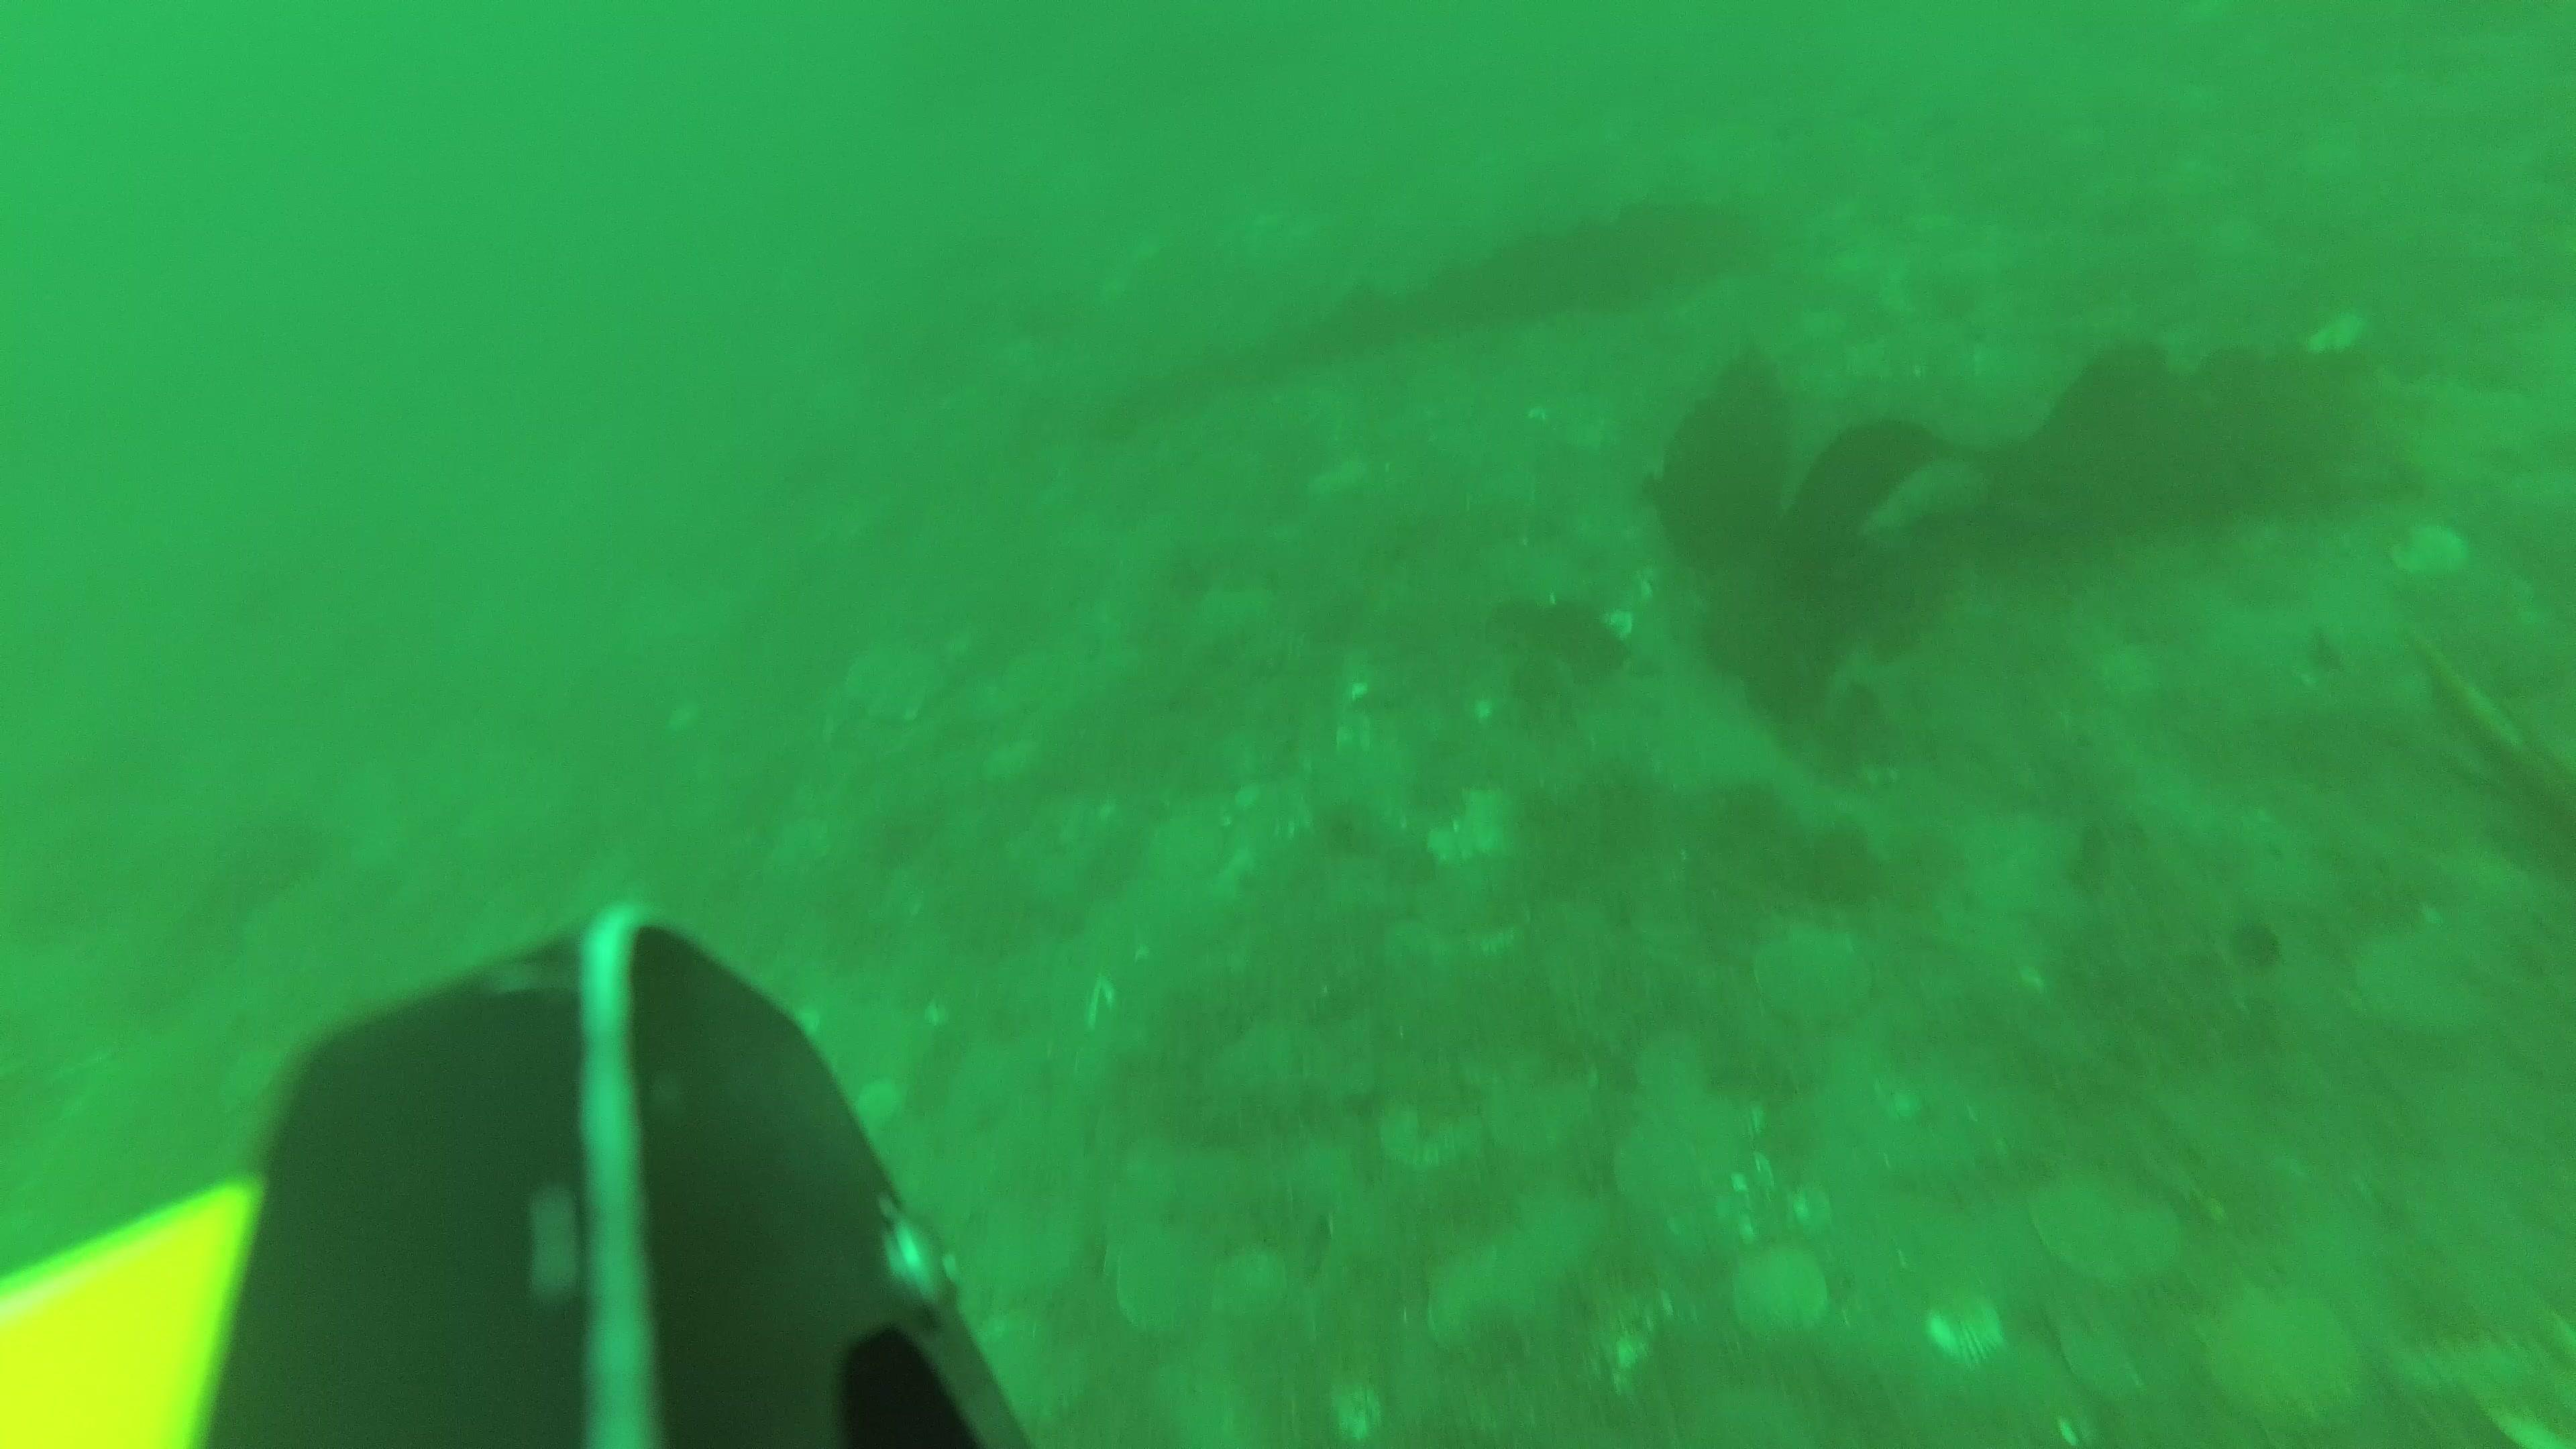holothurian: (2380, 1313, 2574, 1412)
scallop: (2029, 1161, 2201, 1290), (2348, 915, 2502, 1046), (1606, 1104, 1762, 1217), (954, 1198, 1083, 1316), (2208, 1292, 2341, 1403), (1426, 1246, 1546, 1366), (1111, 1215, 1226, 1341), (1755, 922, 1877, 1031), (1734, 1254, 1838, 1357), (971, 1311, 1070, 1417), (1925, 1288, 2012, 1368)
